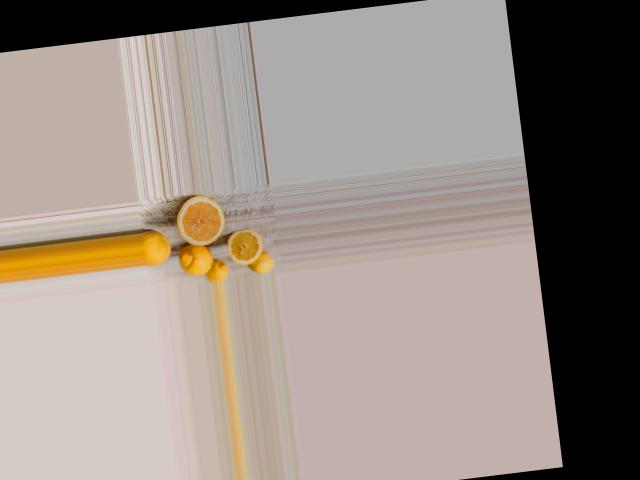lemon: (141, 225, 175, 268)
